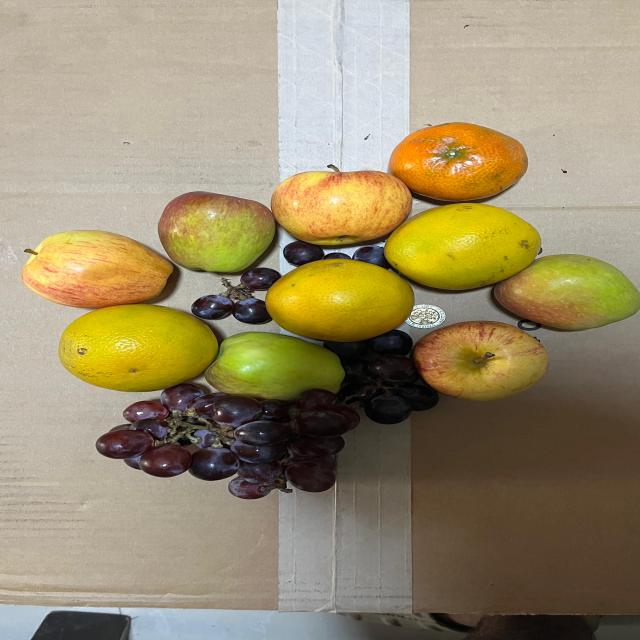moneda: (395, 302, 452, 327)
